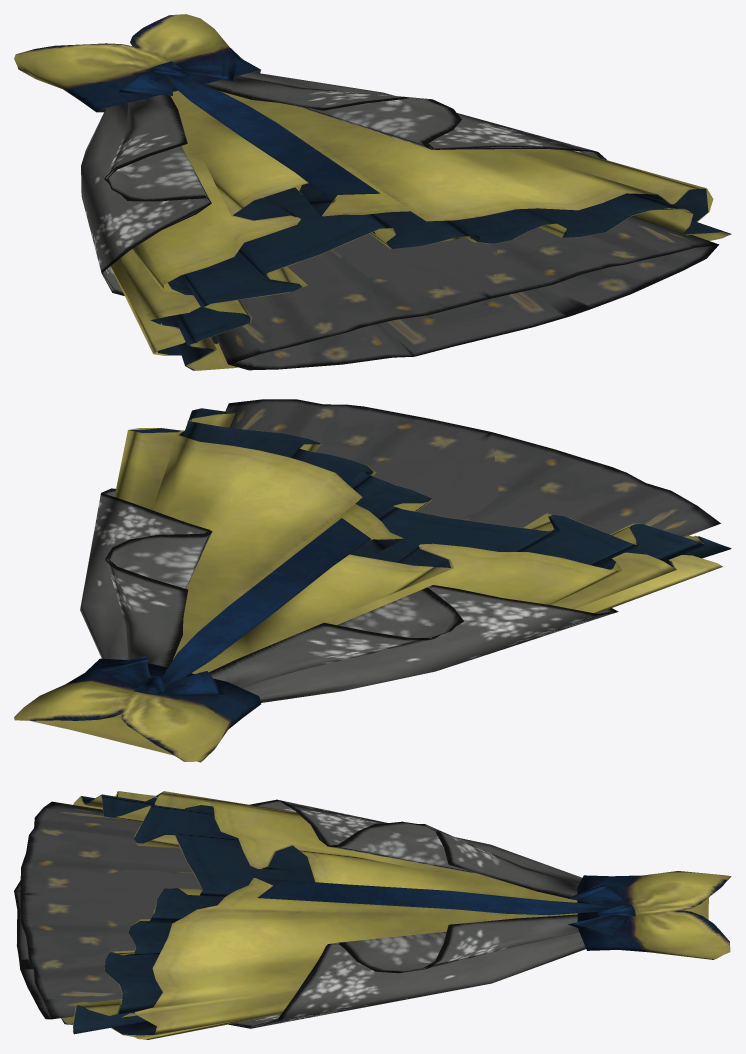
Rendered from BouffantDress_Ground.fbx.
3 renders of one model, top to bottom at view 1: azimuth 30°, elevation 25°; view 2: azimuth 150°, elevation 25°; view 3: azimuth 270°, elevation 25°, orthographic. The views are drawn at different scales.
Visible parts, largest first — view 1: Bow Dress; view 2: Bow Dress; view 3: Bow Dress.
Part boxes in pixels (x1,y1,x2,y2): Bow Dress: (14, 14, 731, 370); Bow Dress: (14, 399, 731, 762); Bow Dress: (14, 791, 731, 1039).
Bounding box in the file's own units: 0.4943 × 0.0418 × 0.5895.
